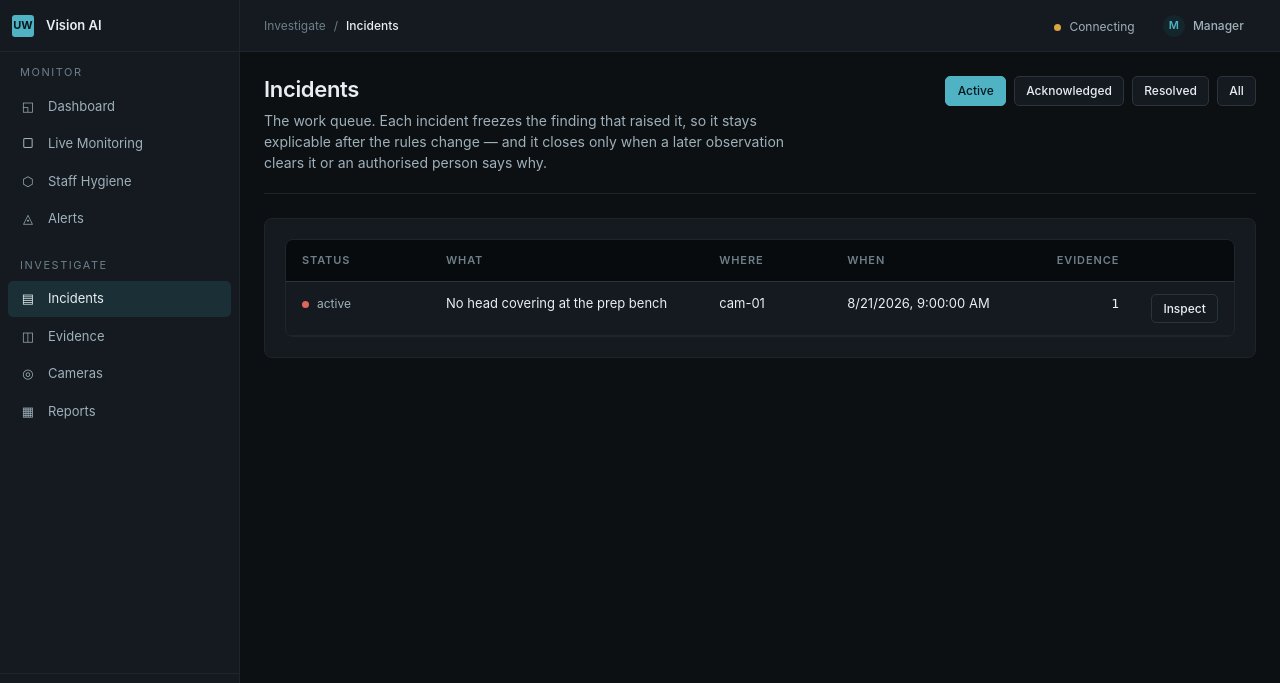
Test: the incident queue › shows the frozen finding rather than recomputing one
This screenshot has width=1280, height=683.
Click the button "Inspect": (1185, 309) [1151,294,1218,324]
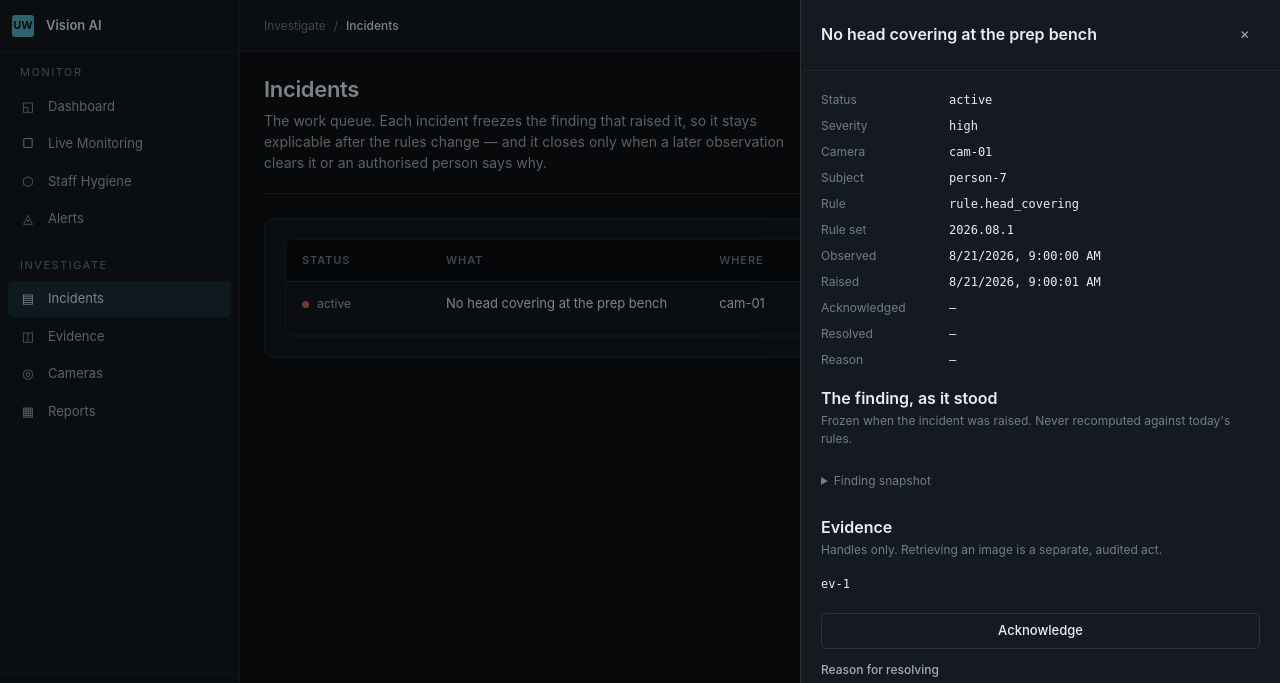
Expected: the text "2026.08.1" is shown, [949,223,1014,237]
Expected: the text "Frozen when the incident was raised" is shown, [821,413,1230,446]
